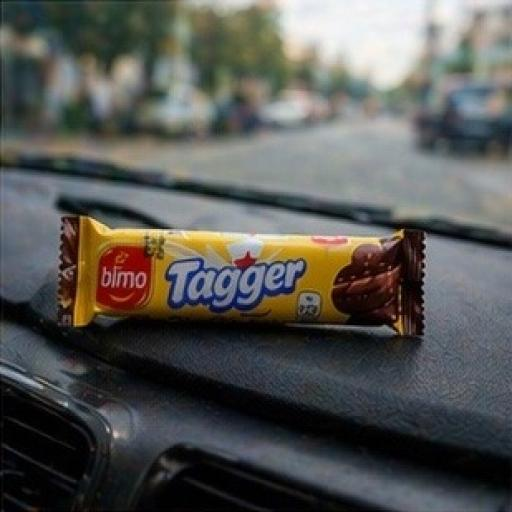tagger: (52, 171, 467, 390)
